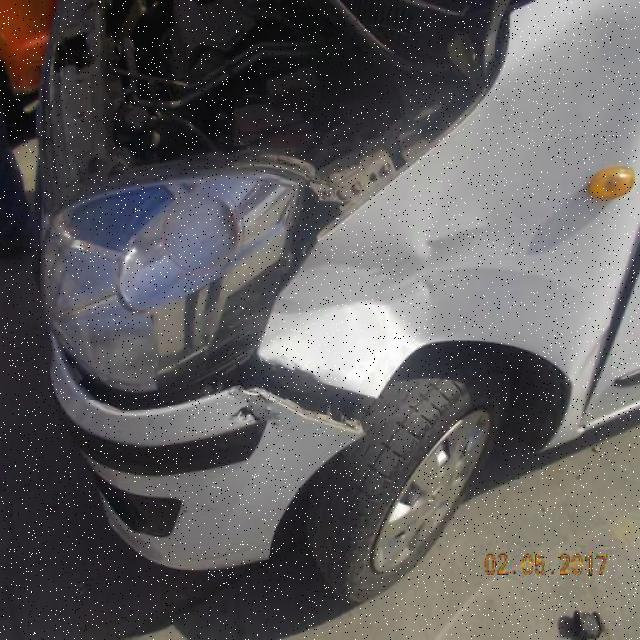car damage: (269, 244, 447, 388), (213, 348, 379, 439), (576, 229, 640, 437)
